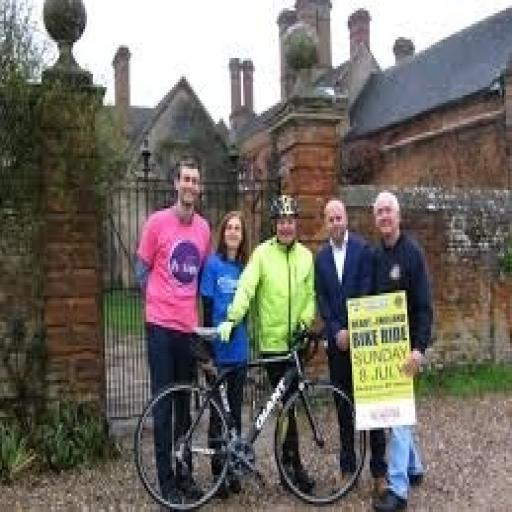cycling: (216, 190, 322, 499), (132, 153, 216, 507), (366, 188, 437, 510), (312, 196, 378, 494), (198, 209, 255, 496)
